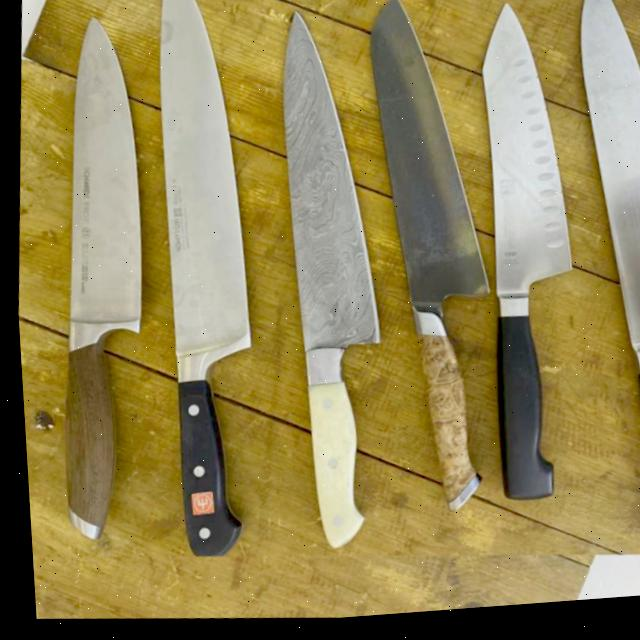knife: (302, 0, 559, 532), (230, 8, 420, 550), (121, 0, 278, 573), (26, 4, 166, 549), (452, 0, 595, 509), (533, 0, 640, 561)
